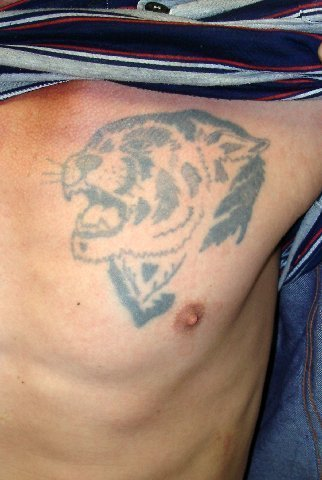tatu5_tigr: (43, 109, 270, 321)
